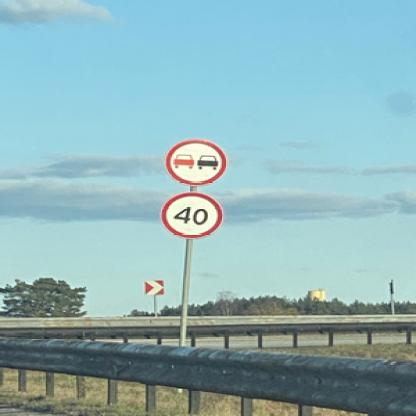Speed Limit 40: (161, 189, 224, 239)
